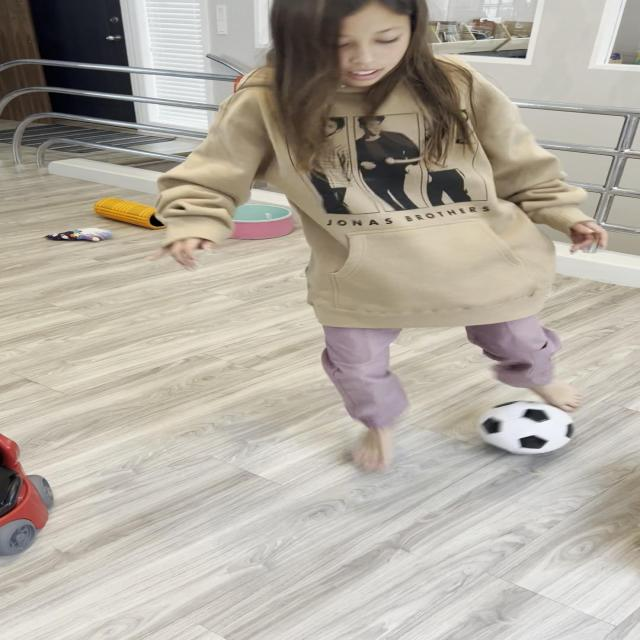Soccer Ball: (478, 400, 576, 455)
